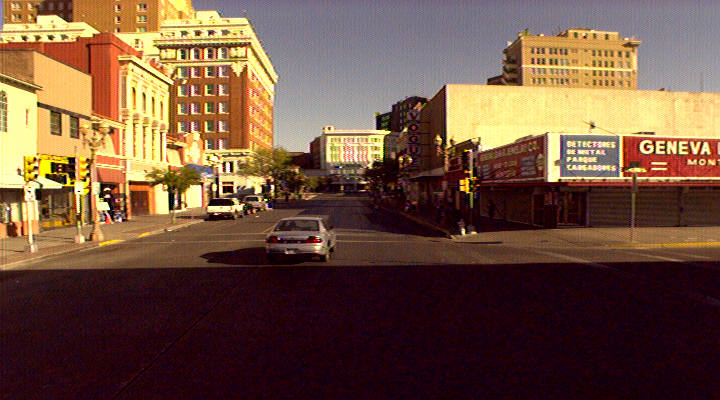Ramp: (483, 221, 625, 252), (103, 229, 147, 244)
